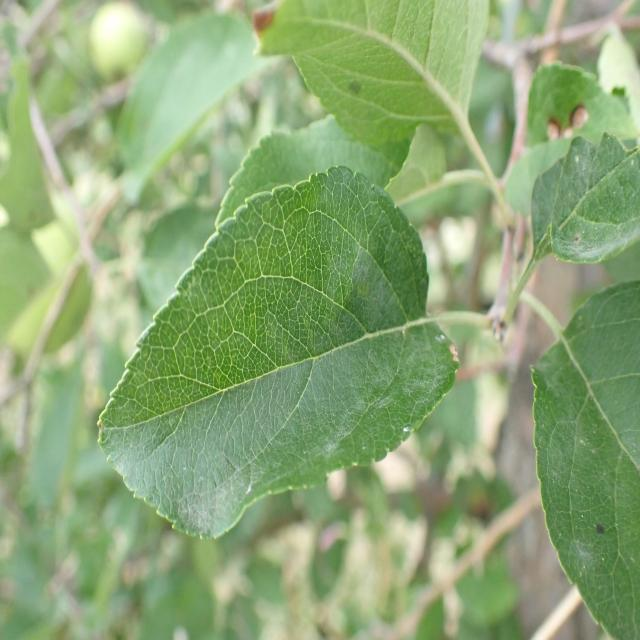Black Rot: (532, 96, 601, 159), (242, 0, 286, 50)
Powdery_mildew: (104, 184, 472, 527), (532, 312, 640, 638), (493, 139, 640, 290)
